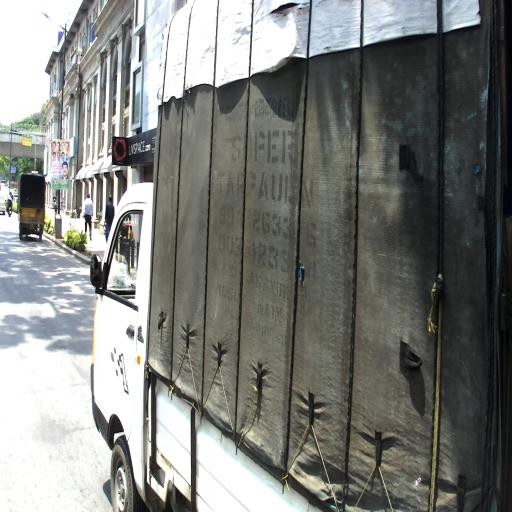street_light_0: (39, 11, 69, 38)
